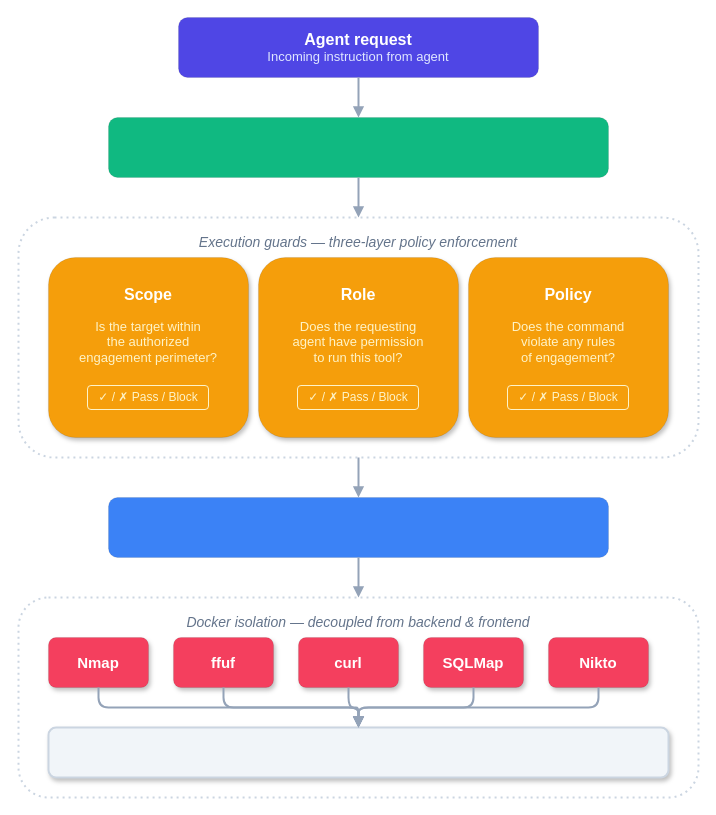
Image size: 716x815. Some labels were removed from this diagram. The centre of each missing label's shape, as x and y in pixels:
"Executor Runs command in isolation — no access to host machine" belongs at point 359,753.
"Sandbox client Dispatches every tool call to isolated sandbox service" belongs at point 358,527.
"Tool routing Matched against catalog: Nmap • ffuf • curl • SQLMap • Nikto" belongs at point 358,147.
